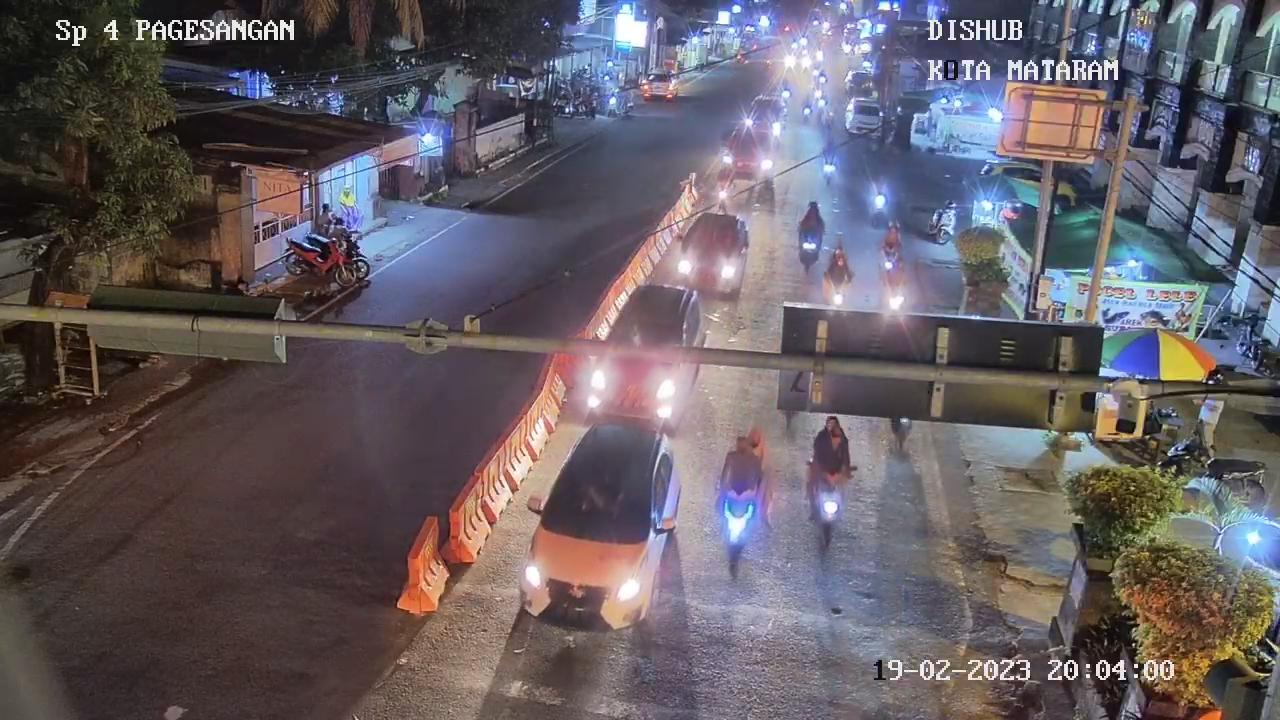car: (512, 412, 690, 640), (577, 273, 712, 428), (670, 206, 753, 300), (715, 123, 779, 192), (737, 84, 788, 133), (838, 89, 881, 143), (642, 65, 680, 103)
motorbike: (800, 459, 861, 554), (710, 479, 768, 578), (822, 266, 854, 315), (796, 224, 825, 274), (877, 274, 910, 316), (865, 192, 893, 232), (817, 151, 845, 188), (880, 247, 901, 274)
person: (714, 426, 770, 502), (800, 410, 859, 481), (795, 199, 826, 231), (879, 219, 904, 253), (828, 245, 849, 276), (818, 132, 840, 157)
